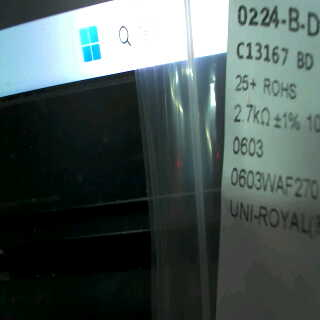2.7kR: (228, 100, 275, 132)
